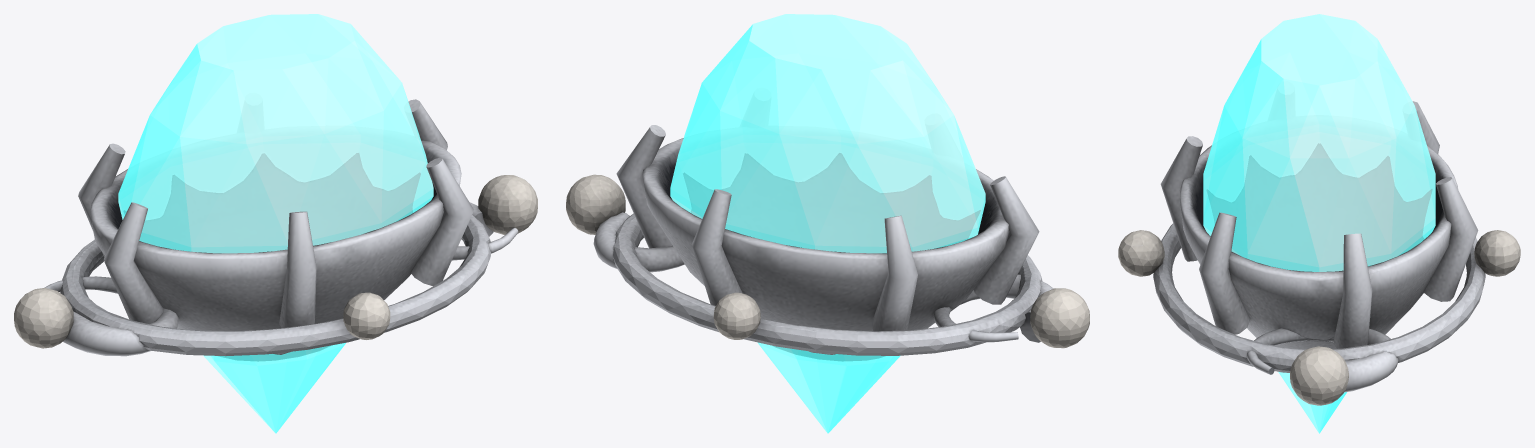
Rendered from item_joia_mare.glb.
The picture shows the model from 3 angles, left to right: view 1: azimuth 30°, elevation 25°; view 2: azimuth 150°, elevation 25°; view 3: azimuth 270°, elevation 25°; orthographic projection.
Parts seen in each view (by area): view 1: item_joia_mare, gema; view 2: item_joia_mare, gema; view 3: item_joia_mare, gema.
Part boxes in pixels (<box>): item_joia_mare: <box>14,99,537,361</box>; gema: <box>118,14,433,433</box>; item_joia_mare: <box>566,125,1089,361</box>; gema: <box>670,14,985,433</box>; item_joia_mare: <box>1118,101,1520,405</box>; gema: <box>1203,14,1435,433</box>.
Bounding box in the file's own units: 0.12 × 0.087 × 0.0826.
Materials: 2 (1 with a texture image).
